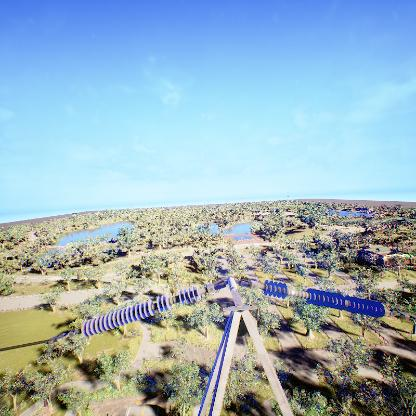insulator: (76, 284, 203, 339), (261, 278, 386, 320)
